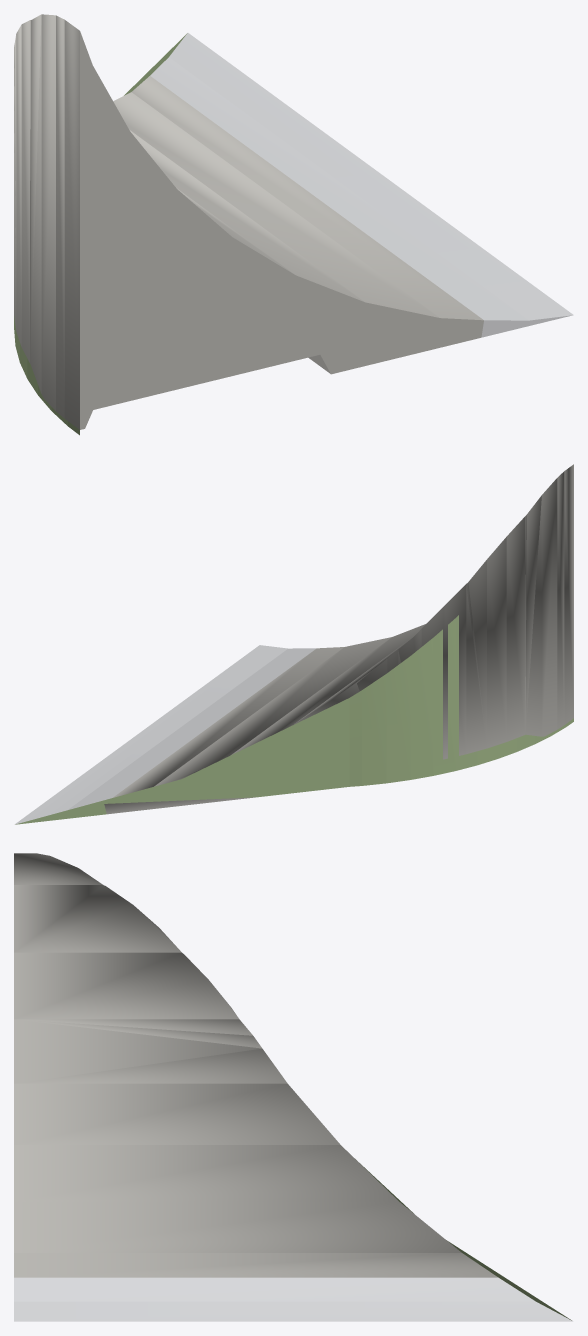
File: cross-ramp-150l.glb
3 renders of one model, top to bottom at view 1: azimuth 30°, elevation 25°; view 2: azimuth 150°, elevation 25°; view 3: azimuth 270°, elevation 25°, orthographic. The views are drawn at different scales.
Parts seen in each view (by area): view 1: SK1232_Cross-Ramp_150L.001; view 2: SK1232_Cross-Ramp_150L.001; view 3: SK1232_Cross-Ramp_150L.001.
Boxes of the visible parts, <box> form: SK1232_Cross-Ramp_150L.001: <box>14,14,573,435</box>; SK1232_Cross-Ramp_150L.001: <box>14,464,573,824</box>; SK1232_Cross-Ramp_150L.001: <box>14,853,573,1321</box>.
Bounding box in the file's own units: 1.85 × 1.45 × 2.5.
